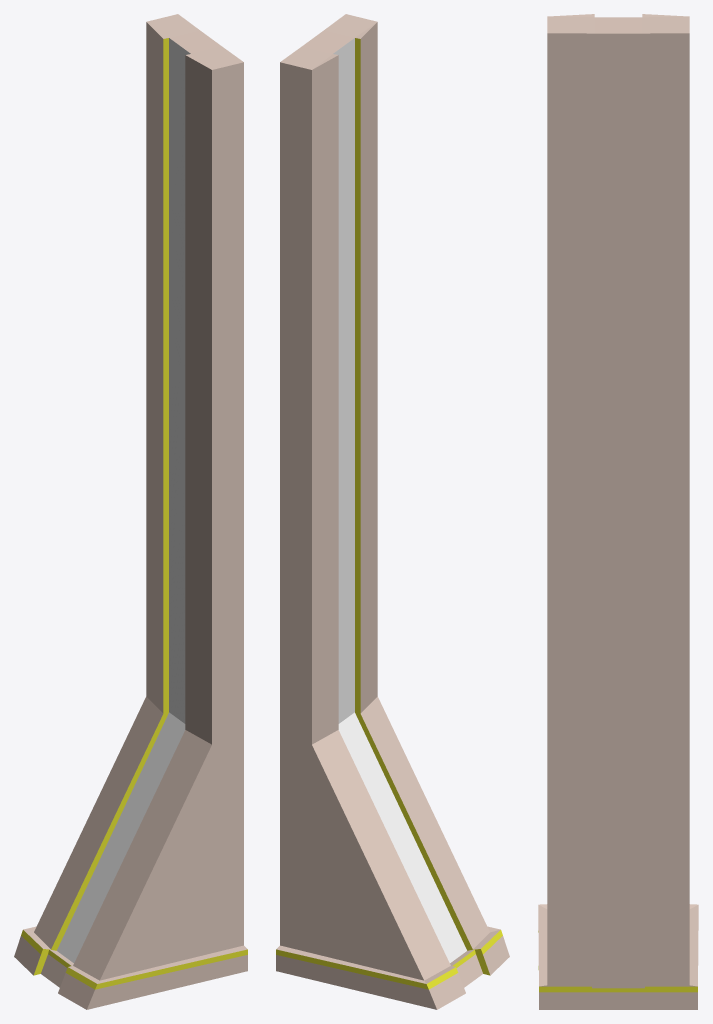
The model's file is wallpillar.fbx.
3 renders of one model, left to right at view 1: azimuth 30°, elevation 25°; view 2: azimuth 150°, elevation 25°; view 3: azimuth 270°, elevation 25°, orthographic. The views are drawn at different scales.
Parts seen in each view (by area): view 1: market_anglepillar; view 2: market_anglepillar; view 3: market_anglepillar.
Part boxes in pixels (<box>): market_anglepillar: <box>14,14,247,1009</box>; market_anglepillar: <box>276,14,509,1009</box>; market_anglepillar: <box>538,14,698,1009</box>.
Size of the model in its own units: 34.24 by 179 by 26.69.
